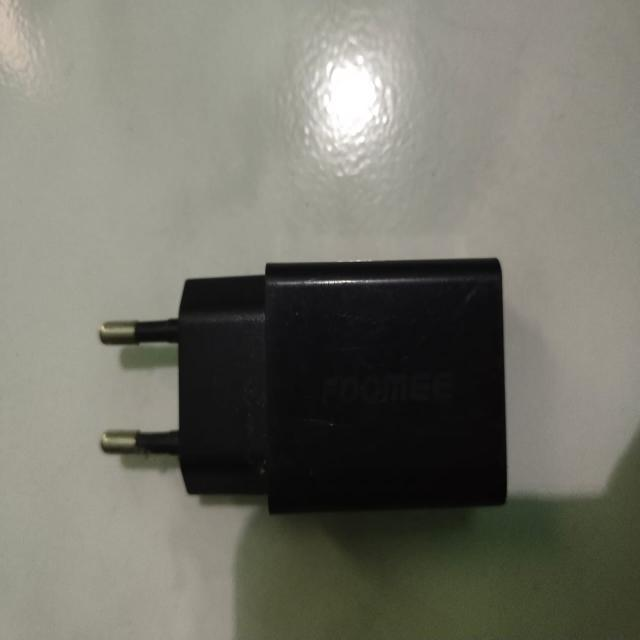kepala cas: (89, 238, 525, 552)
